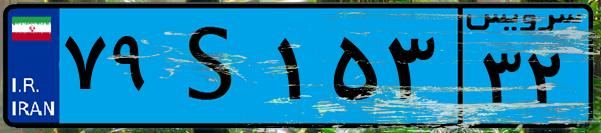1: (270, 28, 330, 110)
2: (525, 38, 570, 115)
3: (385, 28, 445, 110), (475, 38, 525, 113)
5: (330, 28, 385, 110)
7: (57, 26, 110, 100)
9: (110, 28, 158, 98)
S: (158, 12, 270, 120)
